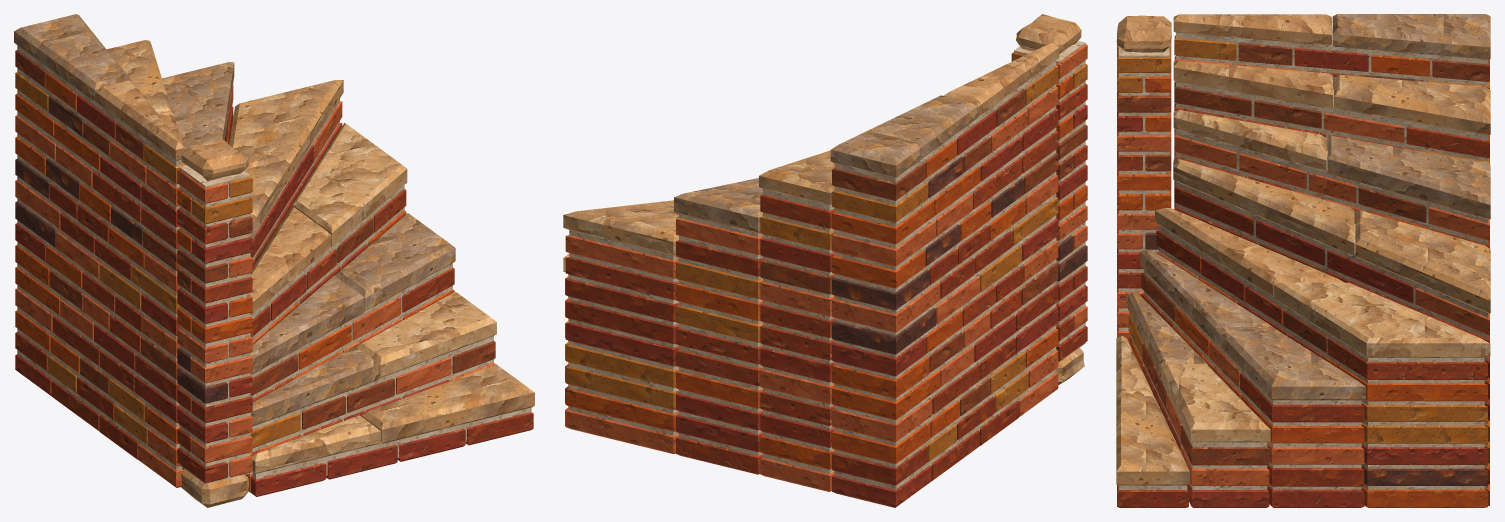
File: stairs_corner__clay_brick.glb
3 views of the same model, side by side, from view 1: azimuth 30°, elevation 25°; view 2: azimuth 150°, elevation 25°; view 3: azimuth 270°, elevation 25° (orthographic). The views are drawn at different scales.
Parts seen in each view (by area): view 1: model; view 2: model; view 3: model.
Boxes of the visible parts, x1=… form: model: x1=14, y1=14, x2=534, y2=507; model: x1=563, y1=14, x2=1087, y2=507; model: x1=1116, y1=14, x2=1490, y2=507.
Size of the model in its own units: 1.98 by 1.98 by 1.98.
13 materials, 13 textured.
